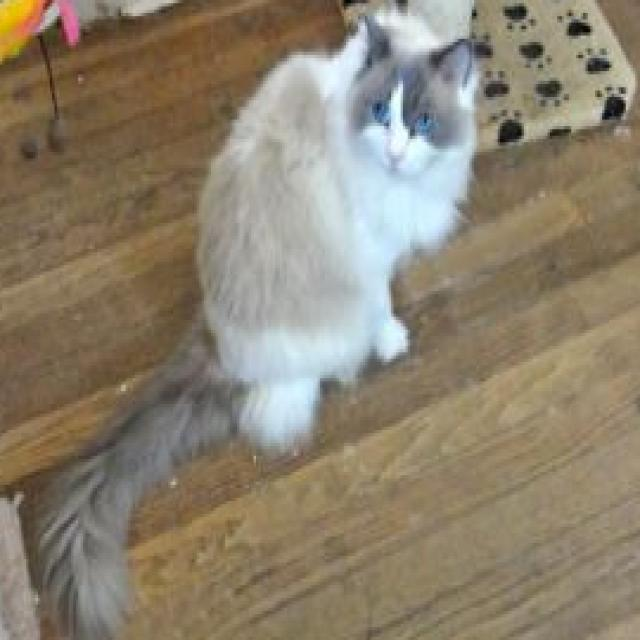Ragdoll: (31, 0, 481, 640)
